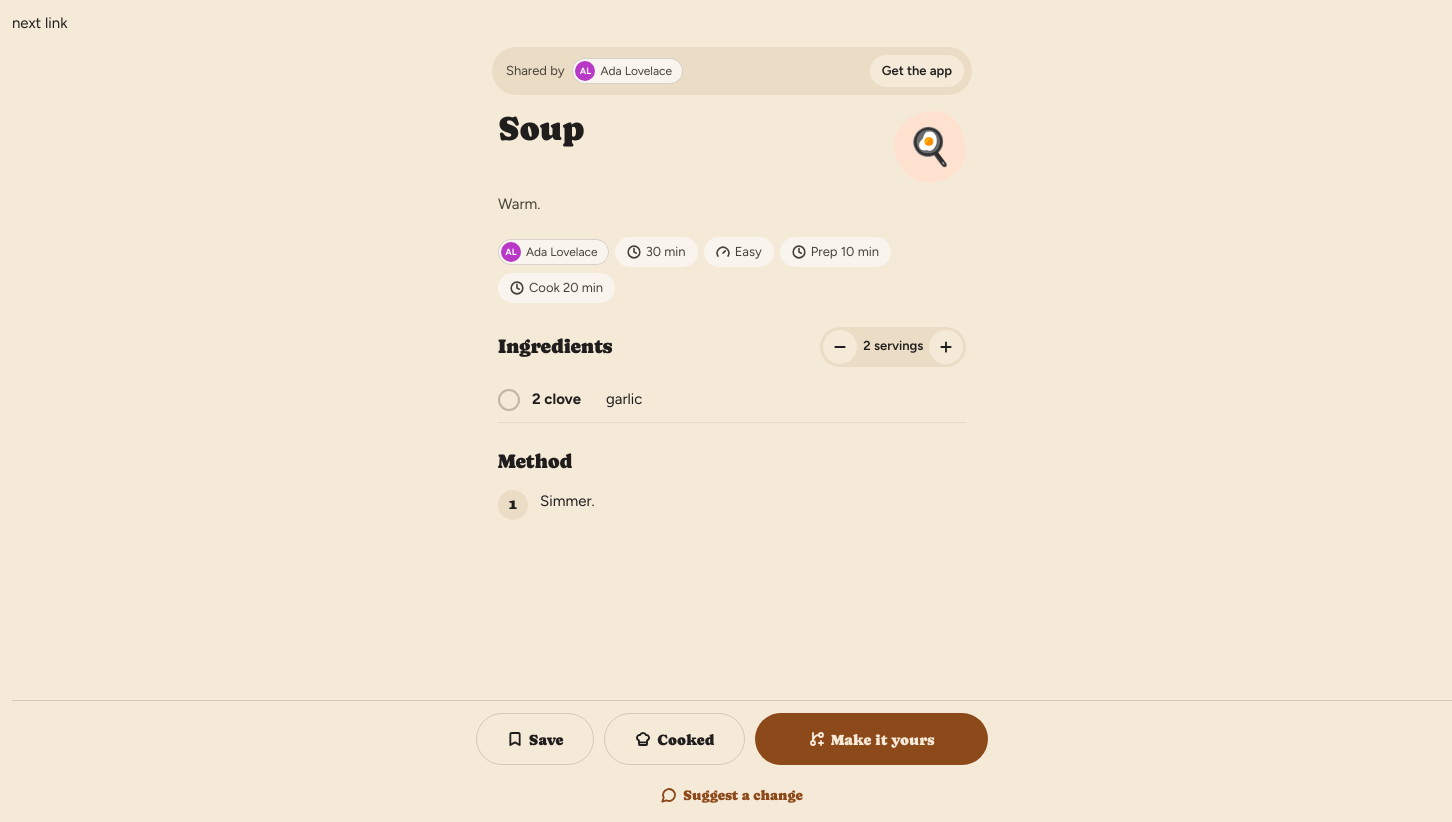
SharedRecipePage /shared/:id › Suggest enters suggest mode for a verified user, sends, and toasts
Click the button "Suggest a change" at (732,795), box [476,773,988,817]
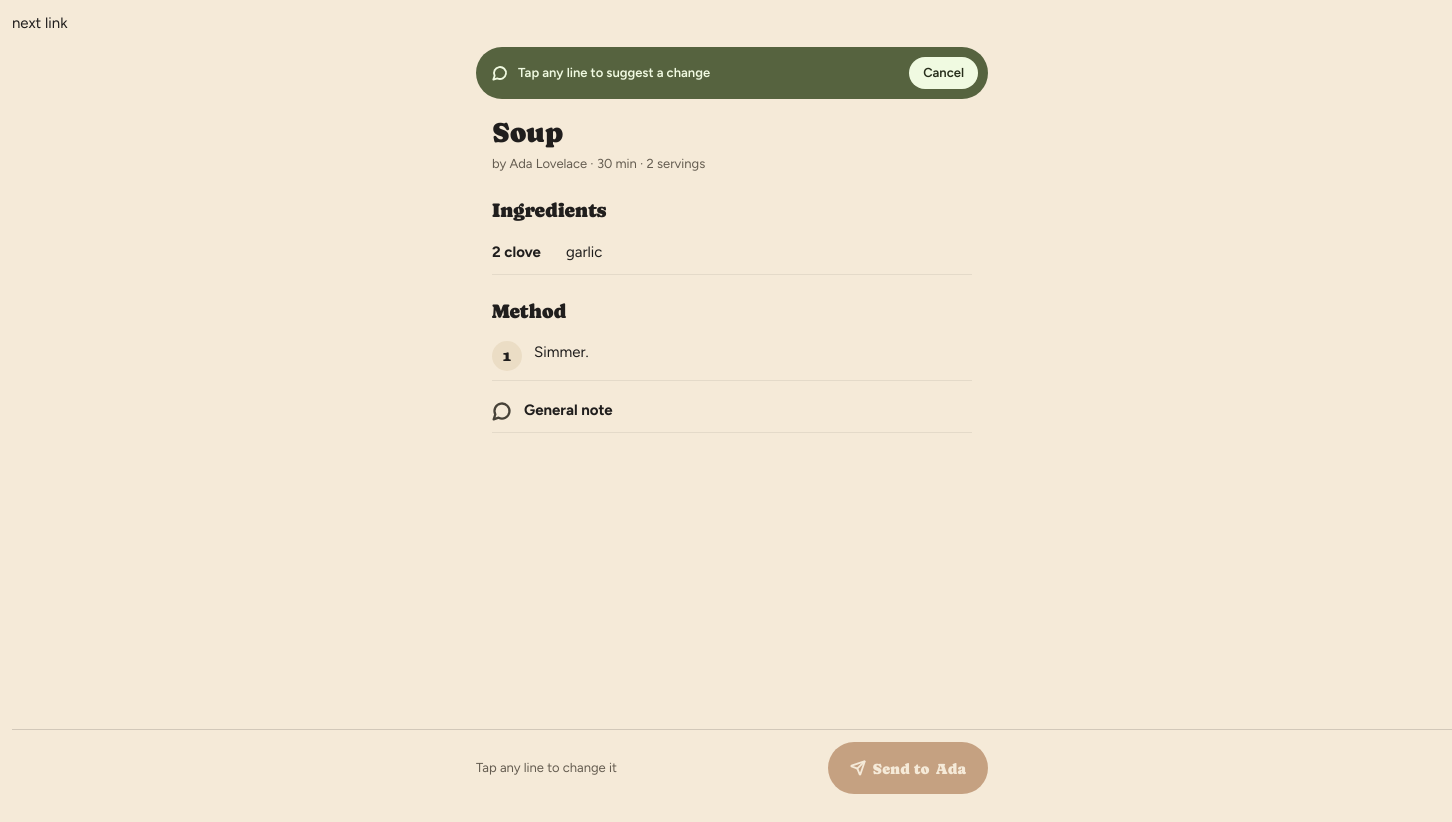
Click the button "General note" at (568,410), box [492,389,972,433]
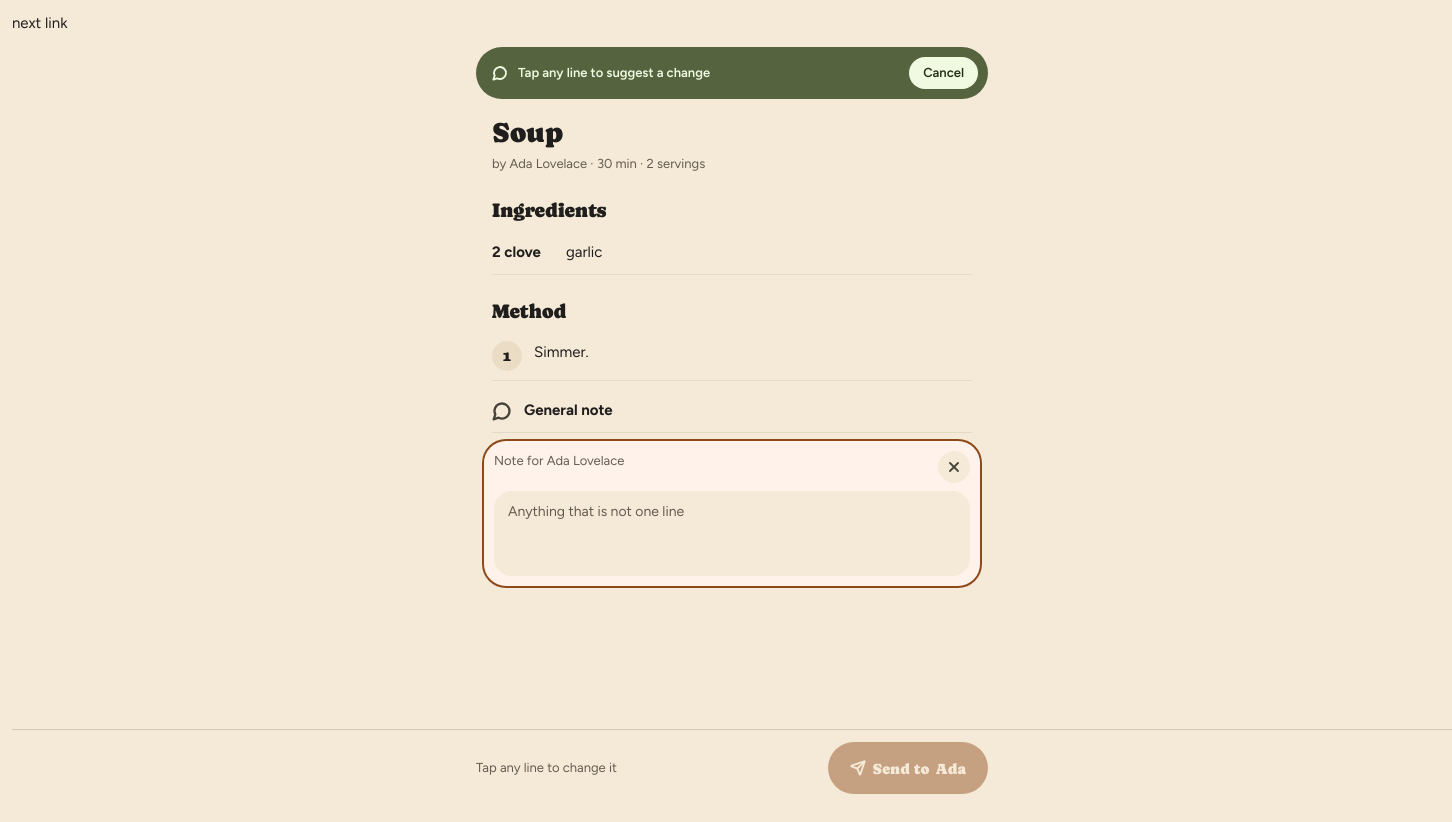
Type "More heat" into the text box named "General note text" at (732,534), box [494,491,970,576]
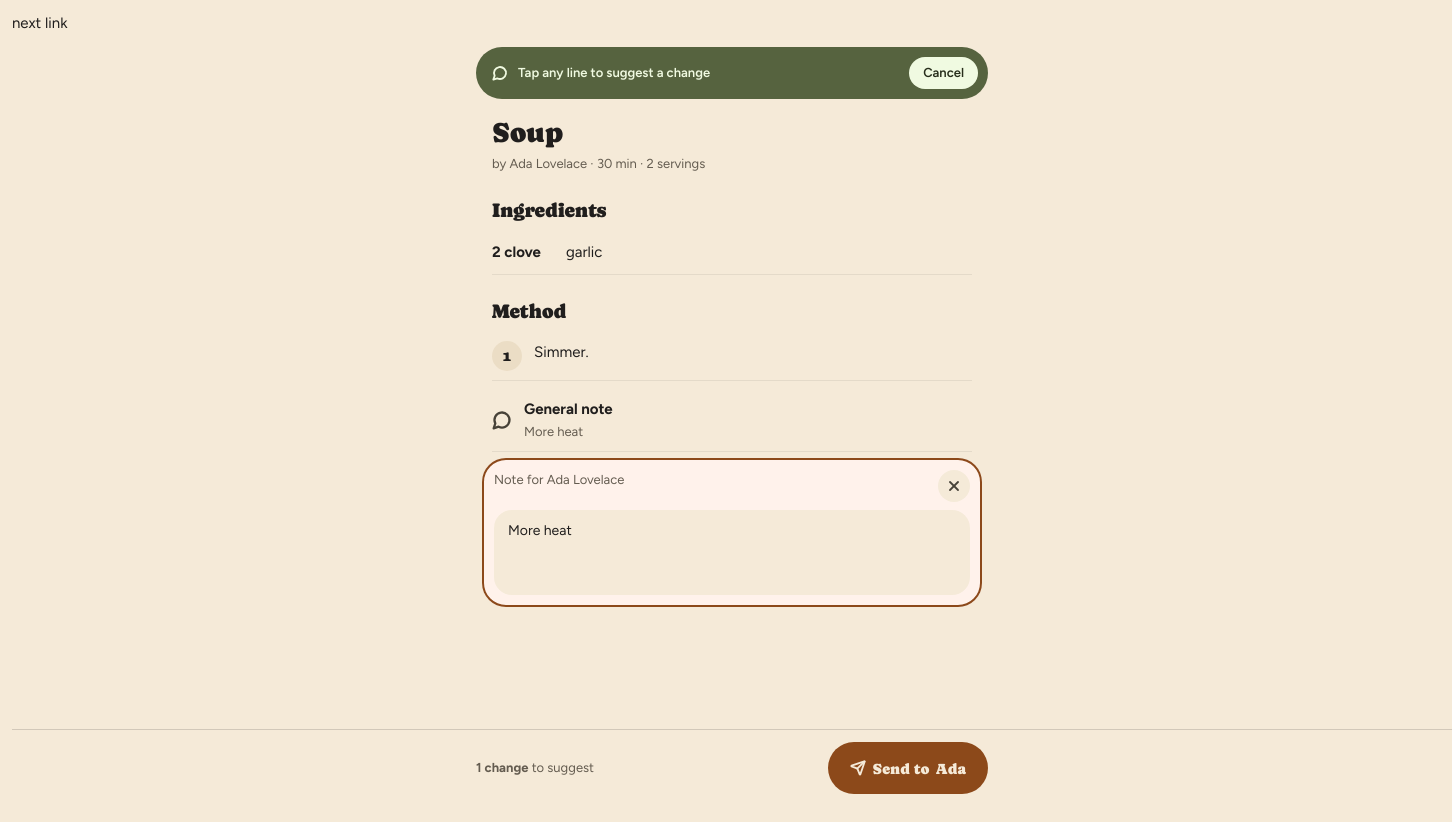
Click the button "Send to Ada" at (908,768), box [828,742,988,794]
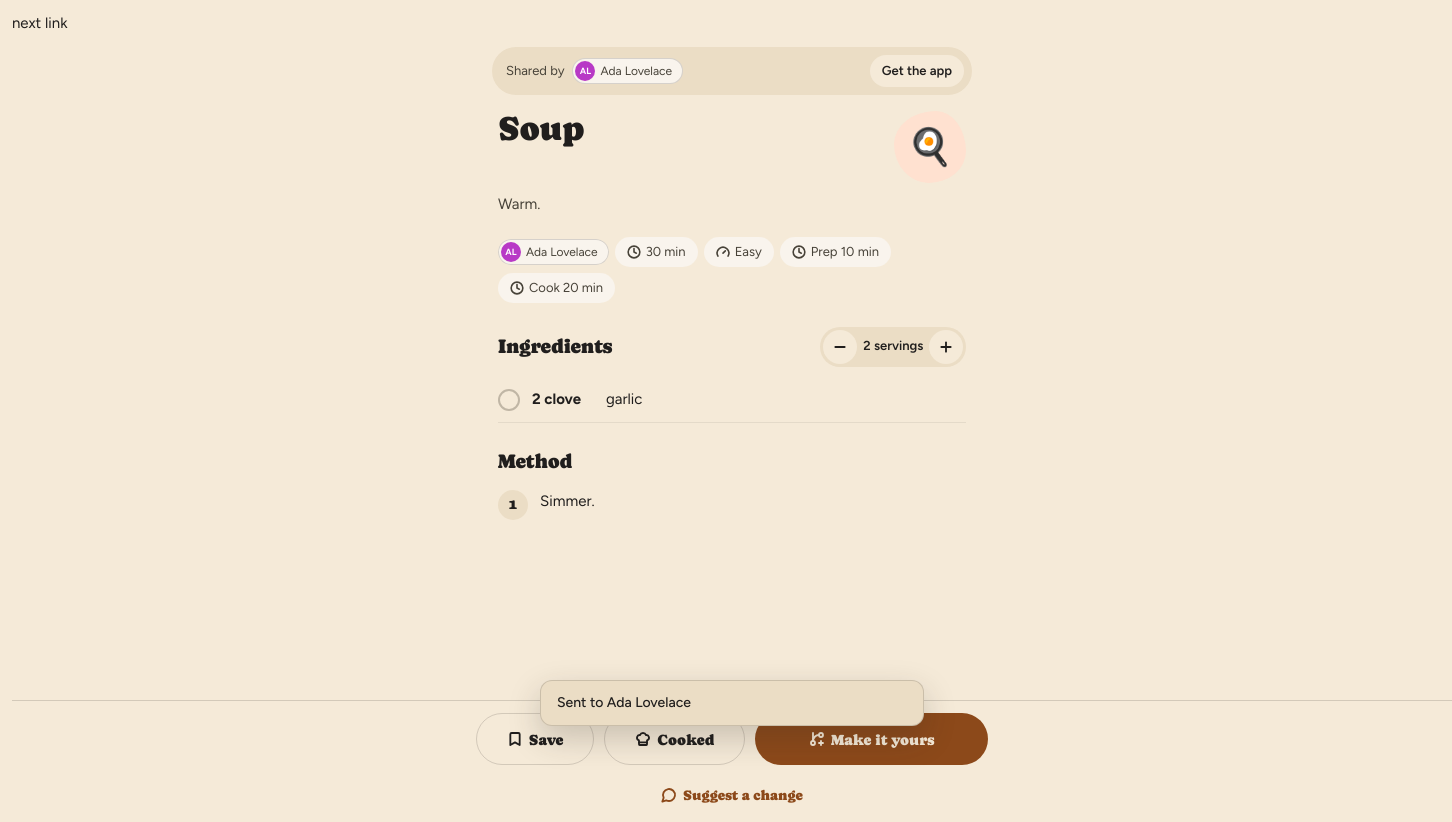
Expected: the heading "Soup" is shown, [498,109,584,148]
Now the text "Sent to Ada Lovelace" is shown, box [557,694,691,711]
